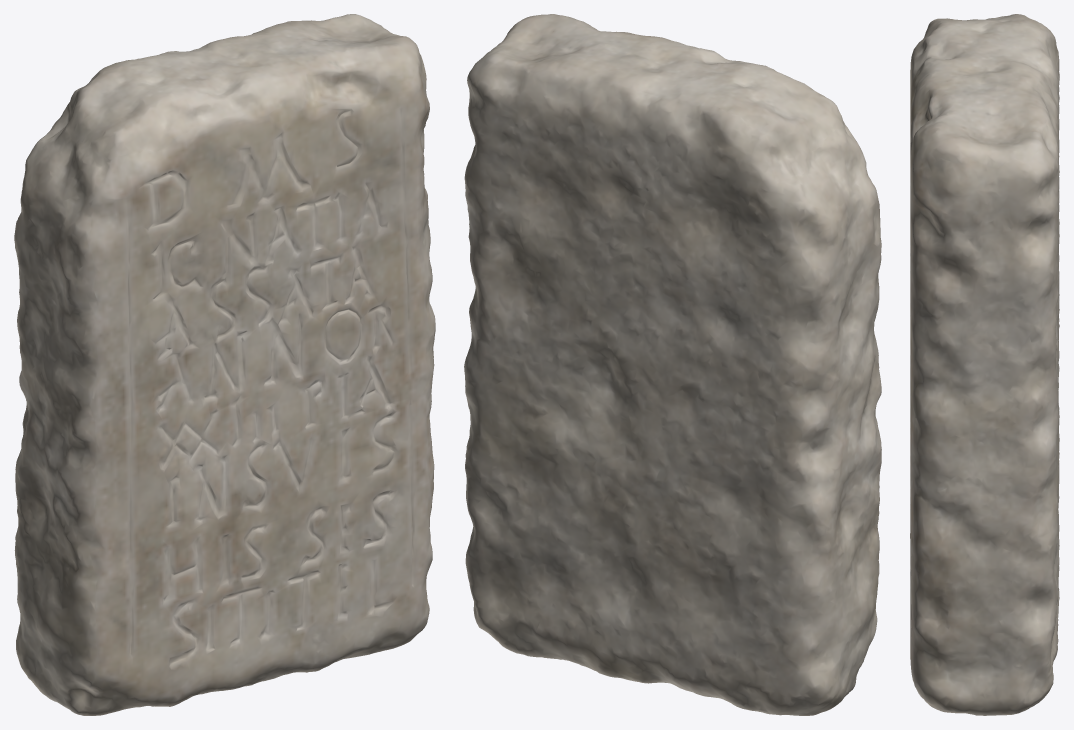
Rendered from 07_INS_icnatia.glb.
3 renders of one model, left to right at view 1: azimuth 30°, elevation 25°; view 2: azimuth 150°, elevation 25°; view 3: azimuth 270°, elevation 25°, orthographic. The views are drawn at different scales.
Parts seen in each view (by area): view 1: ICNATIA_LP; view 2: ICNATIA_LP; view 3: ICNATIA_LP.
Part boxes in pixels (<box>): ICNATIA_LP: <box>14,14,435,715</box>; ICNATIA_LP: <box>464,14,881,715</box>; ICNATIA_LP: <box>910,14,1059,715</box>.
Size of the model in its own units: 0.2352 by 0.3664 by 0.0852.
1 material, 1 textured.
